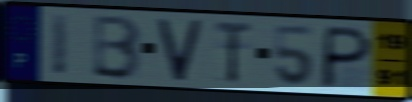5: (273, 22, 316, 88)
B: (90, 14, 144, 82)
I: (50, 12, 71, 78)
P: (317, 24, 375, 91)
T: (212, 19, 254, 85)
V: (154, 17, 206, 83)
